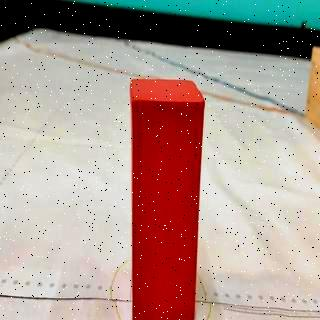redbox: (128, 77, 206, 320)
